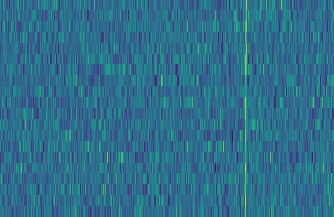signal: (241, 0, 251, 217)
